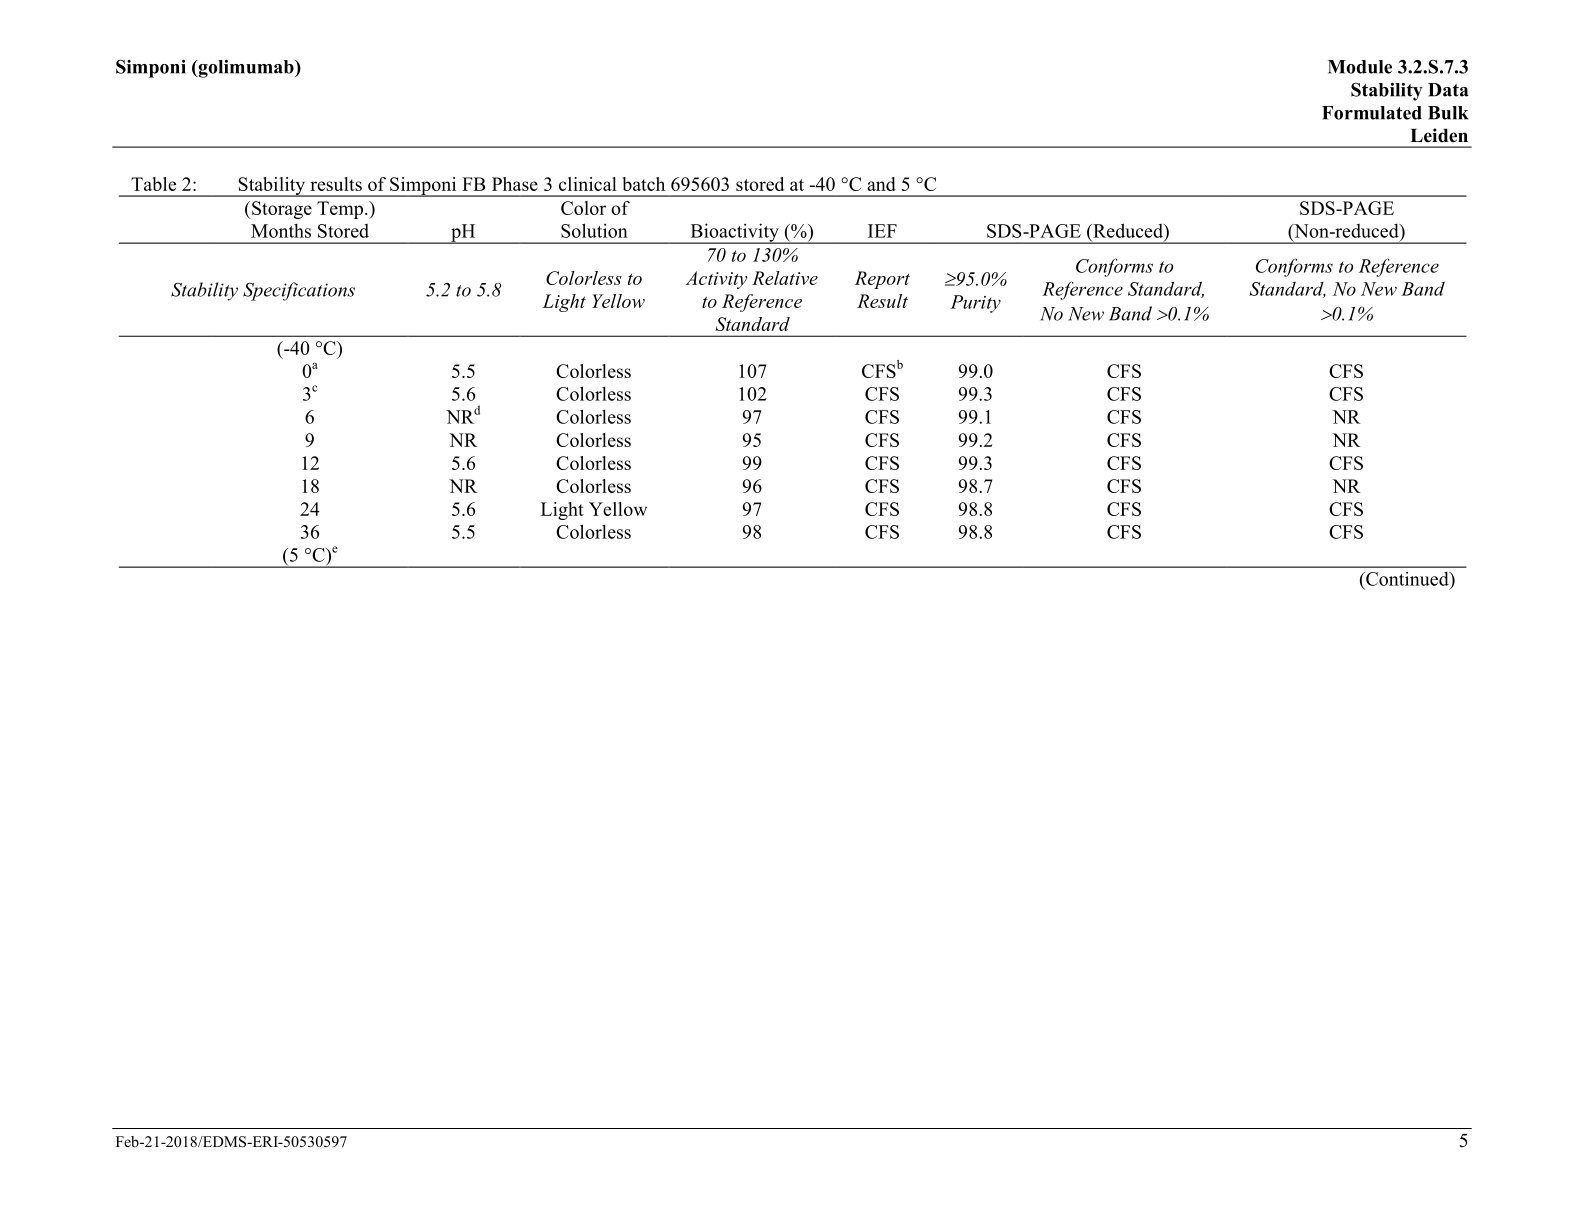partial_lined_merged_cells: (120, 194, 1470, 570)
